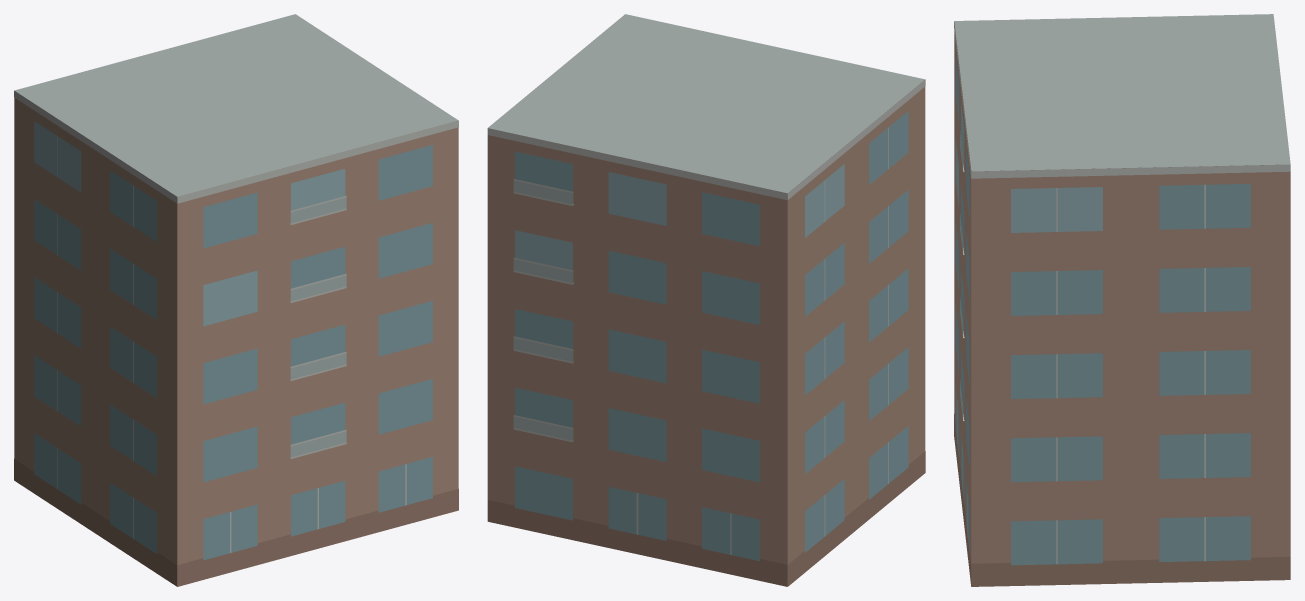
The model's file is survey-upis-32536104.glb.
3 views of the same model, side by side, from view 1: azimuth 30°, elevation 25°; view 2: azimuth 150°, elevation 25°; view 3: azimuth 270°, elevation 25° (orthographic). The views are drawn at different scales.
Visible parts, largest first — view 1: survey-upis-32536104.tmp; view 2: survey-upis-32536104.tmp; view 3: survey-upis-32536104.tmp.
Part boxes in pixels (left/top/right/bottom): survey-upis-32536104.tmp: left=14, top=14, right=458, bottom=586; survey-upis-32536104.tmp: left=487, top=14, right=925, bottom=586; survey-upis-32536104.tmp: left=954, top=14, right=1290, bottom=586.
Size of the model in its own units: 11.3 by 13.9 by 10.21.
